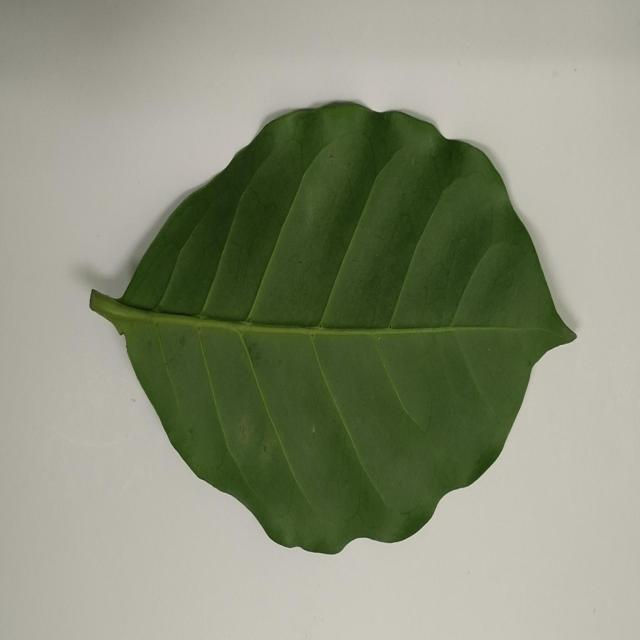Sanas: (88, 101, 578, 558)
